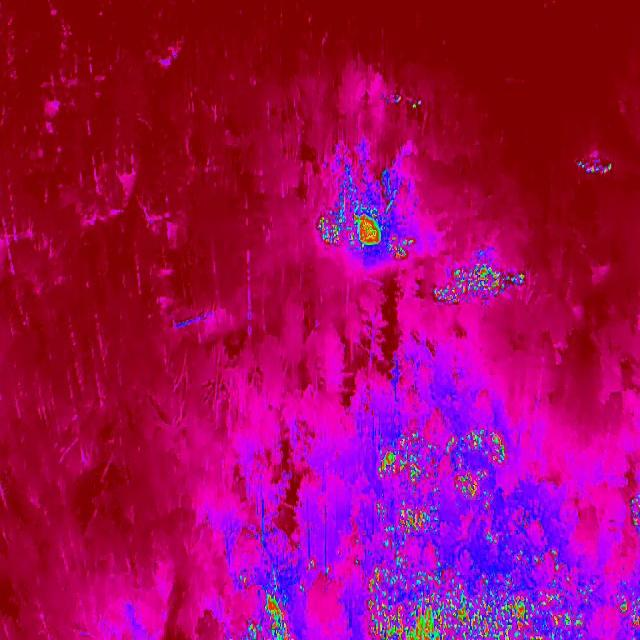fire: (365, 565, 585, 640), (376, 426, 509, 502), (316, 205, 417, 261), (433, 260, 526, 309), (392, 502, 428, 540), (263, 594, 292, 640), (614, 591, 640, 640), (576, 150, 616, 180), (384, 87, 424, 115), (623, 495, 640, 544), (248, 622, 258, 636), (308, 558, 316, 570), (551, 549, 558, 556), (535, 557, 541, 565), (396, 556, 402, 563), (487, 530, 492, 538), (242, 576, 247, 583)
